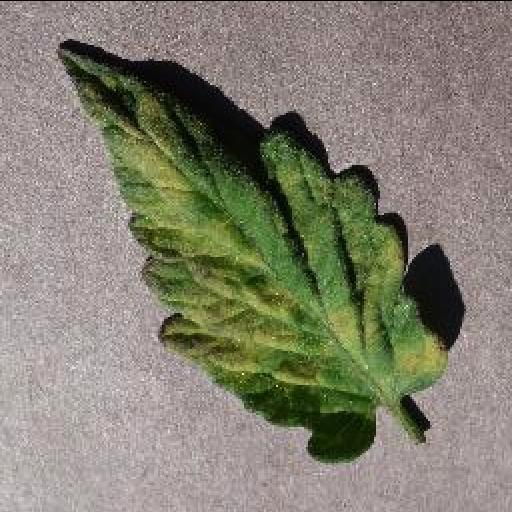disease_tomato: (53, 44, 451, 464)
